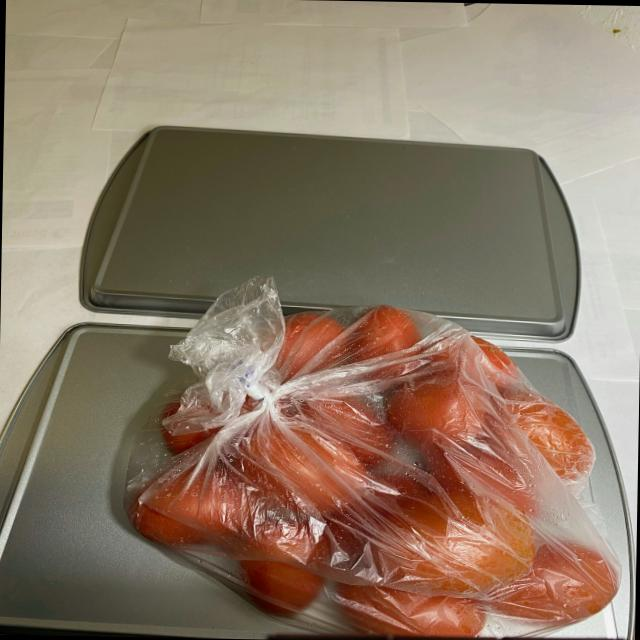tomato: (137, 308, 634, 622)
